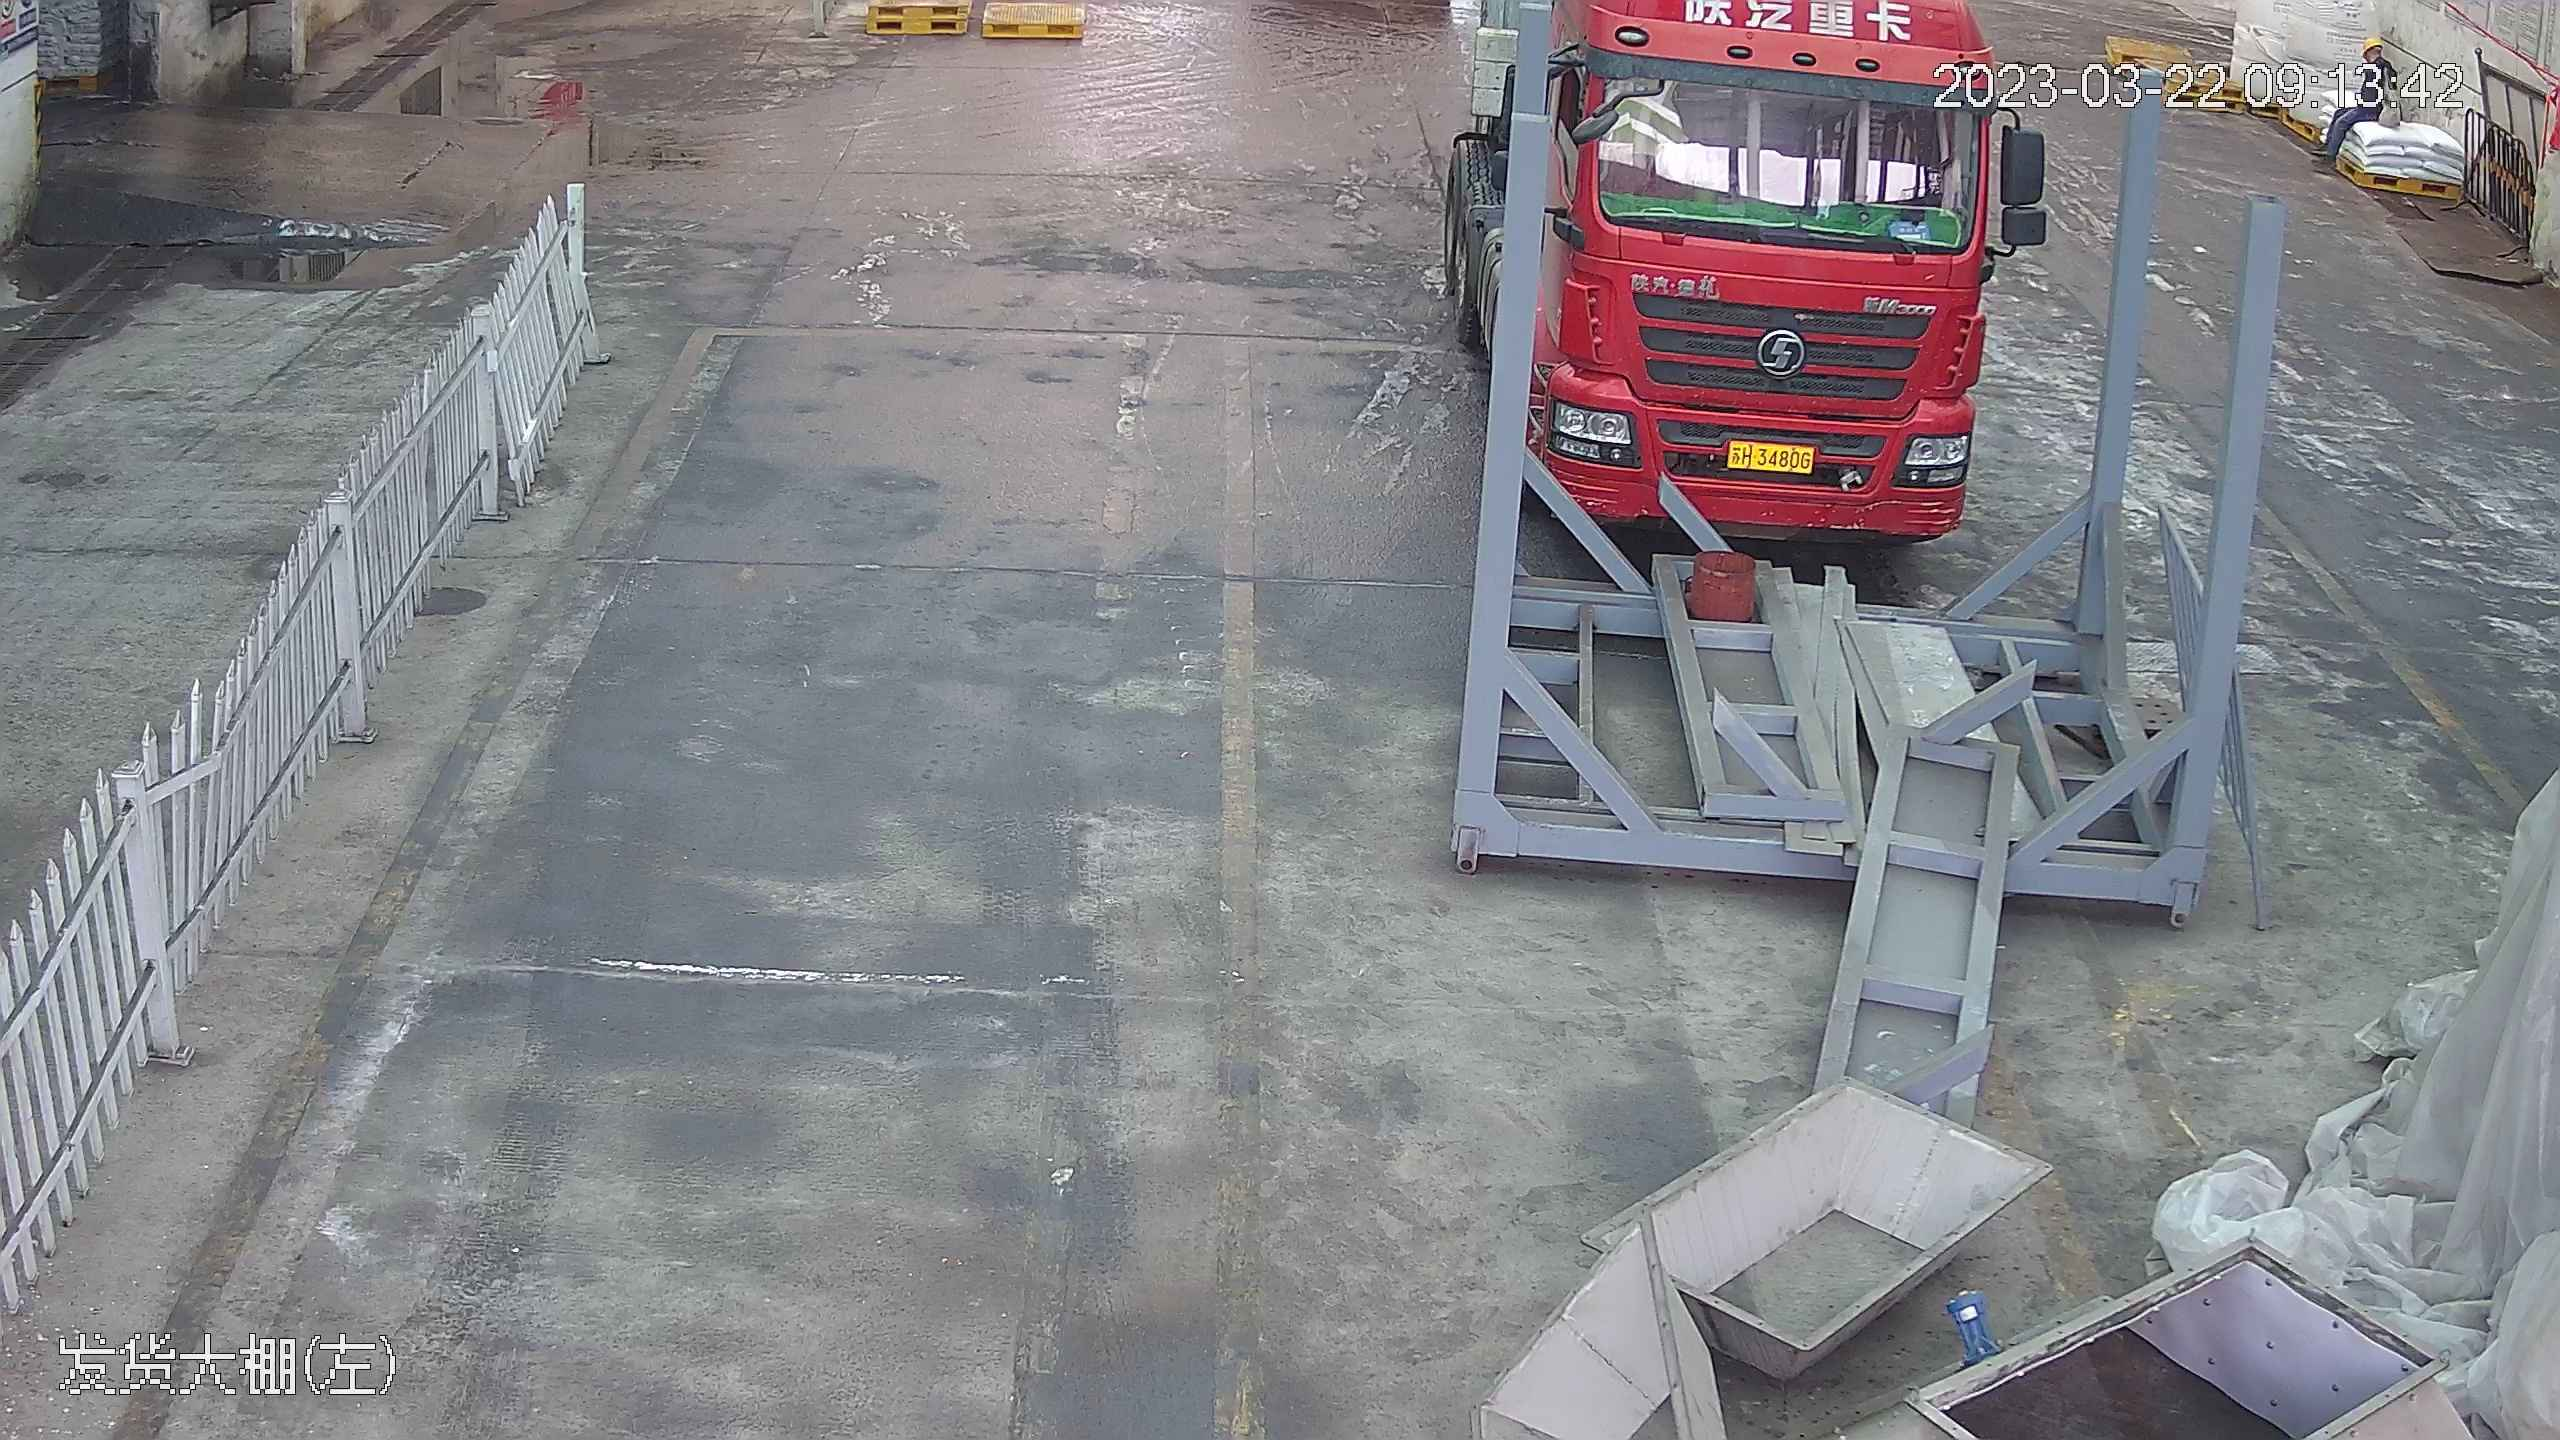head: (2354, 34, 2395, 77)
helmet: (2361, 33, 2384, 49)
people: (2334, 34, 2396, 153)
truck: (1509, 1, 2002, 542)
